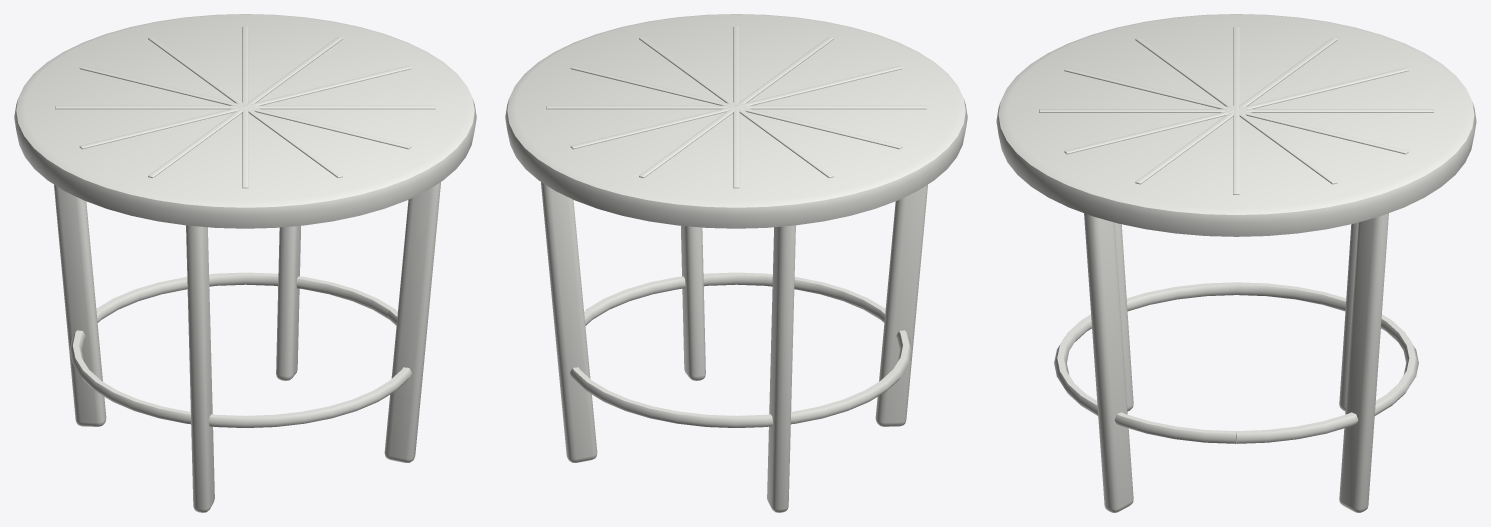
The model's file is mesa_jardim_redonda_branca.glb.
The picture shows the model from 3 angles, left to right: view 1: azimuth 30°, elevation 25°; view 2: azimuth 150°, elevation 25°; view 3: azimuth 270°, elevation 25°; orthographic projection. The views are drawn at different scales.
Visible parts, largest first — view 1: mesa_jardim_redonda_branca; view 2: mesa_jardim_redonda_branca; view 3: mesa_jardim_redonda_branca.
Part boxes in pixels (x1,y1,x2,y2): mesa_jardim_redonda_branca: [14, 14, 476, 512]; mesa_jardim_redonda_branca: [505, 14, 967, 512]; mesa_jardim_redonda_branca: [996, 14, 1476, 512].
Bounding box in the file's own units: 0.9 × 0.723 × 0.9.
Materials: 1 (1 with a texture image).
